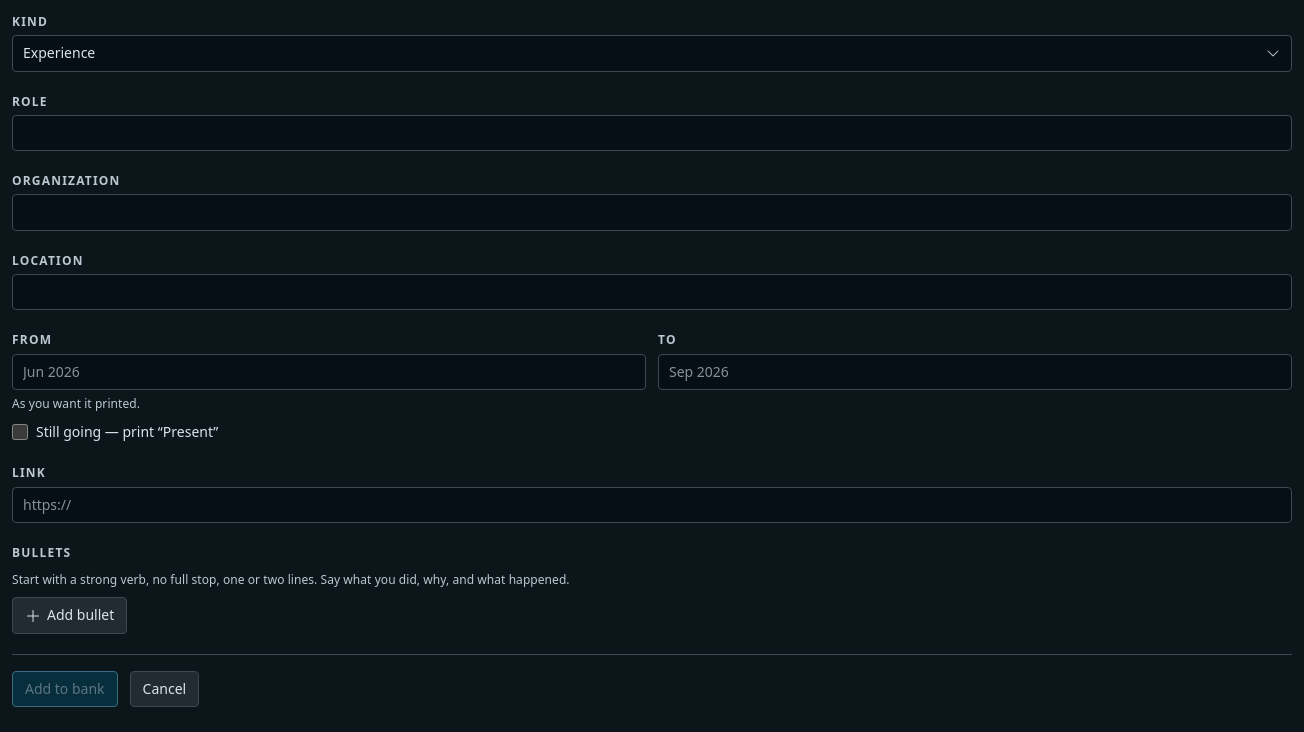
BankEntryForm / what each kind asks for › asks a skill group for nothing but a label and its terms
Click the button with aria-label "kind" at (59, 53), box [12,35,1292,72]
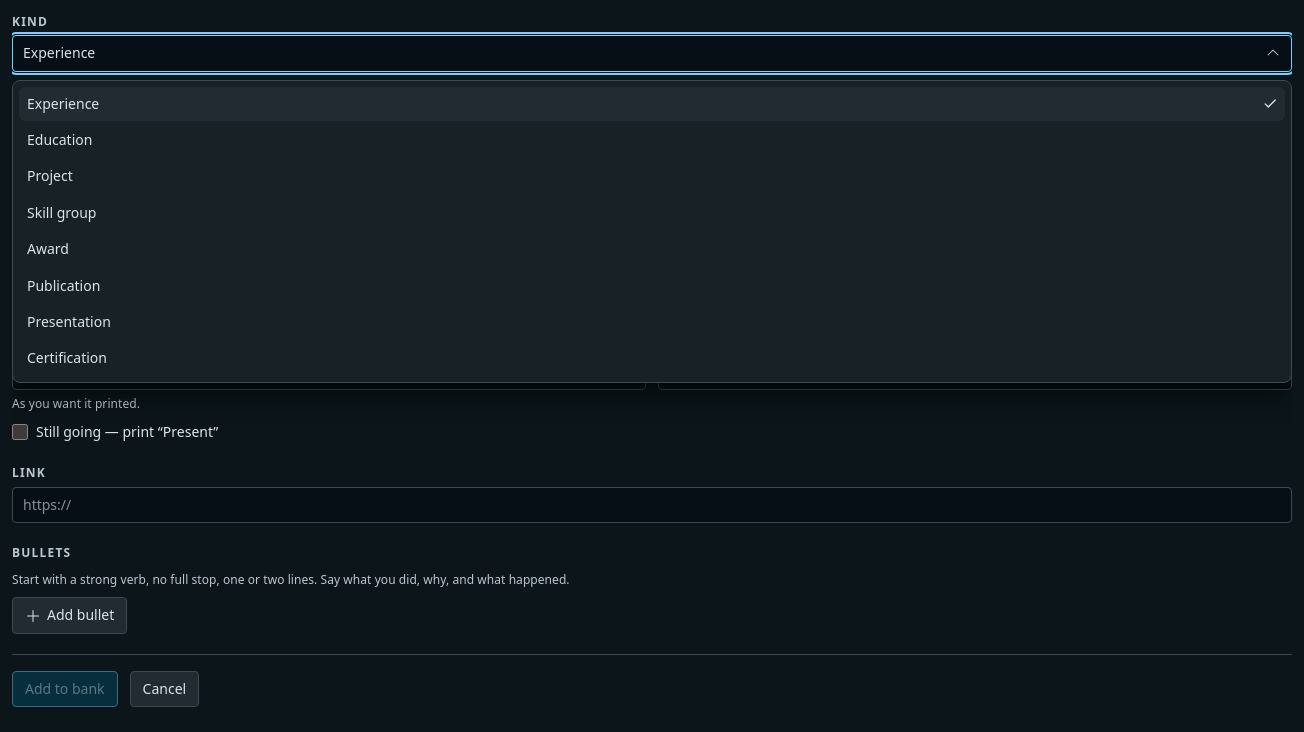
Click the option "Skill group" at (62, 212), box [27,203,96,222]
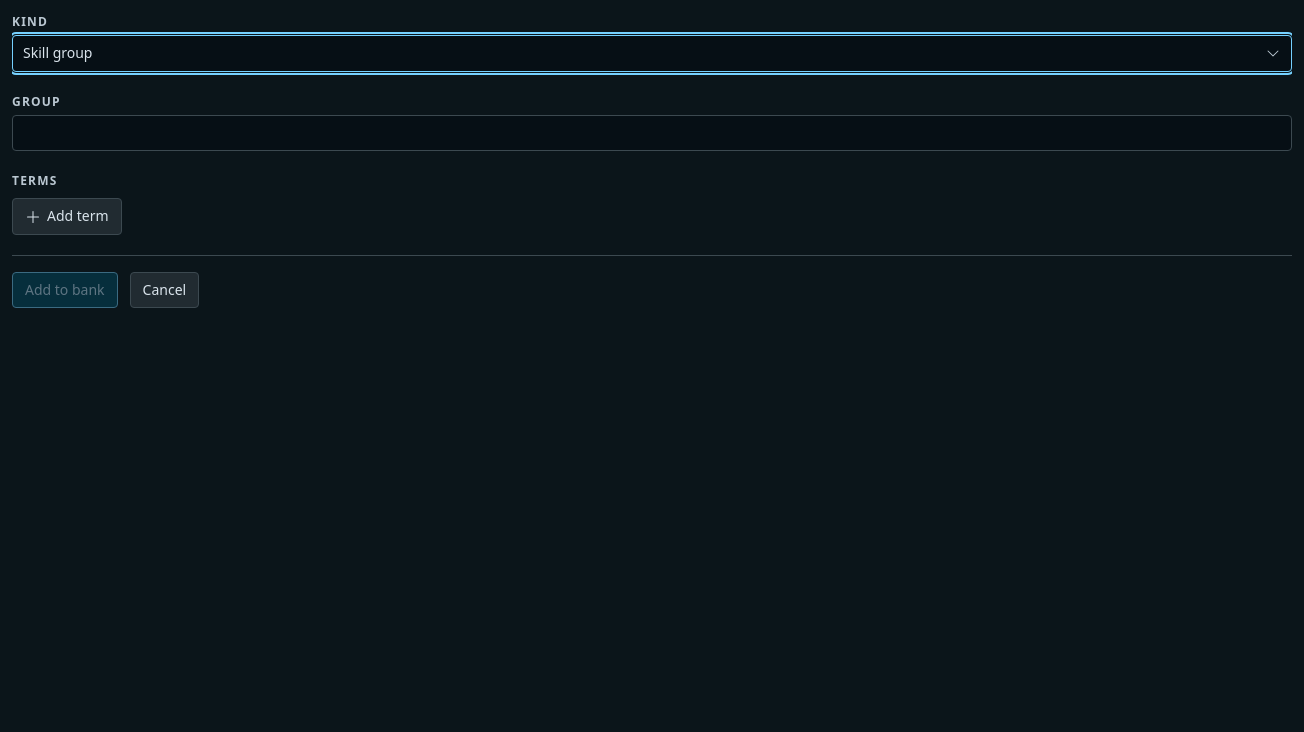
Expected: the button "Add term" is shown, [12,198,122,235]
Expected: the text "Organization" is gone
Expected: the text "Location" is gone
